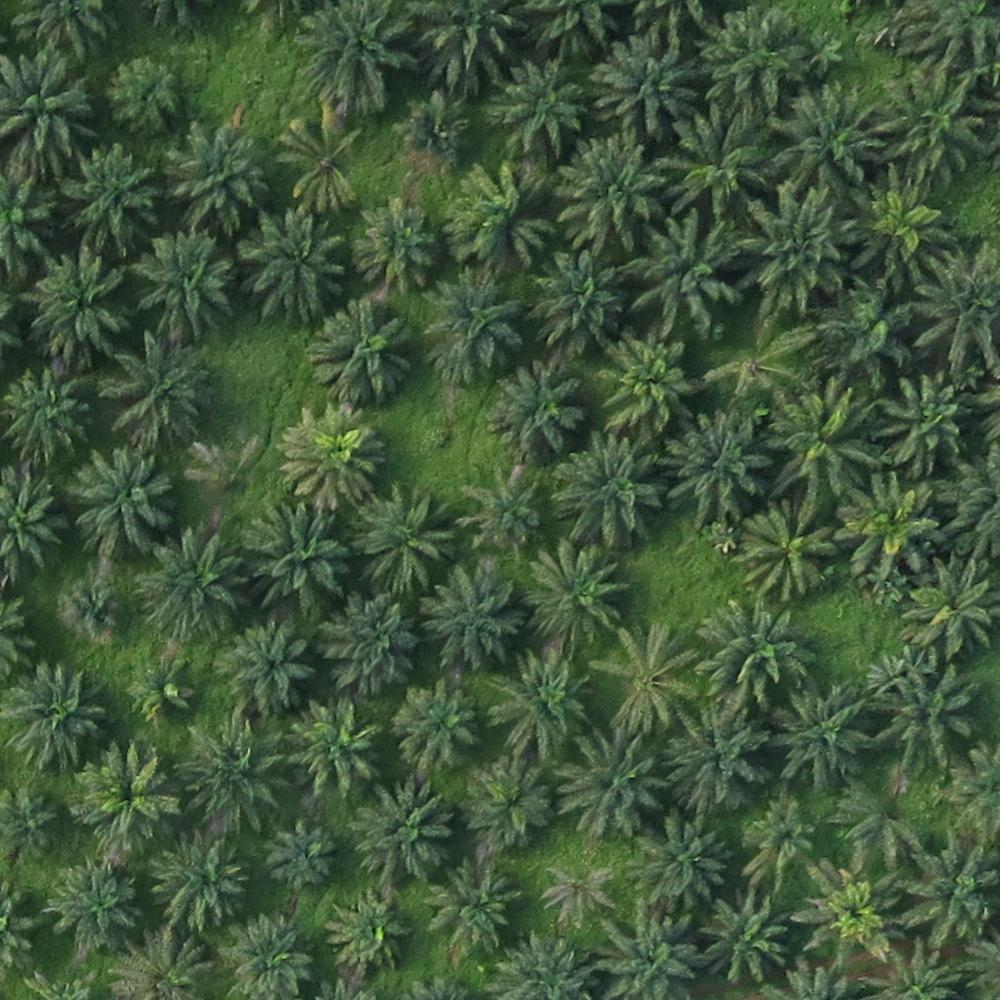not plam: (192, 36, 287, 114), (215, 344, 301, 421), (400, 402, 483, 474), (635, 552, 715, 615), (813, 604, 877, 661)
